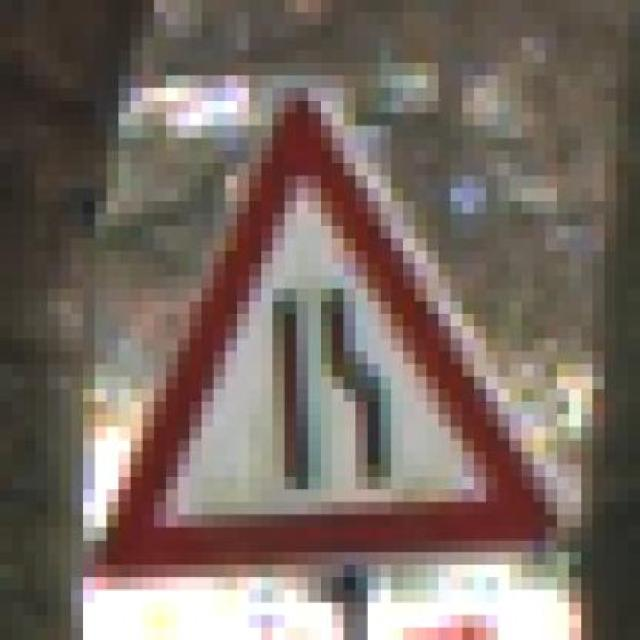-Road narrows on right: (83, 75, 580, 578)
